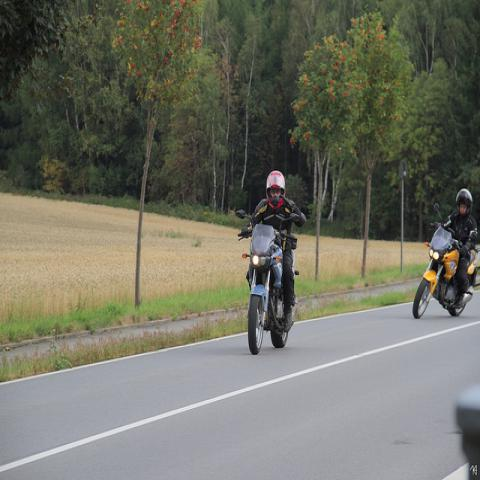motorcycle: (236, 209, 301, 355), (410, 206, 464, 319)
